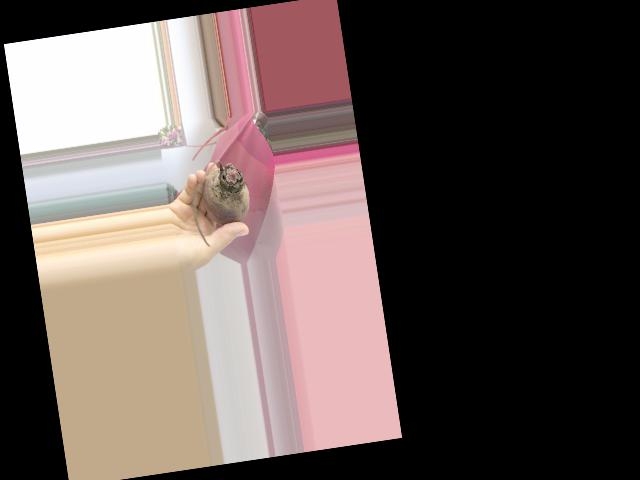beet: (186, 155, 255, 248)
